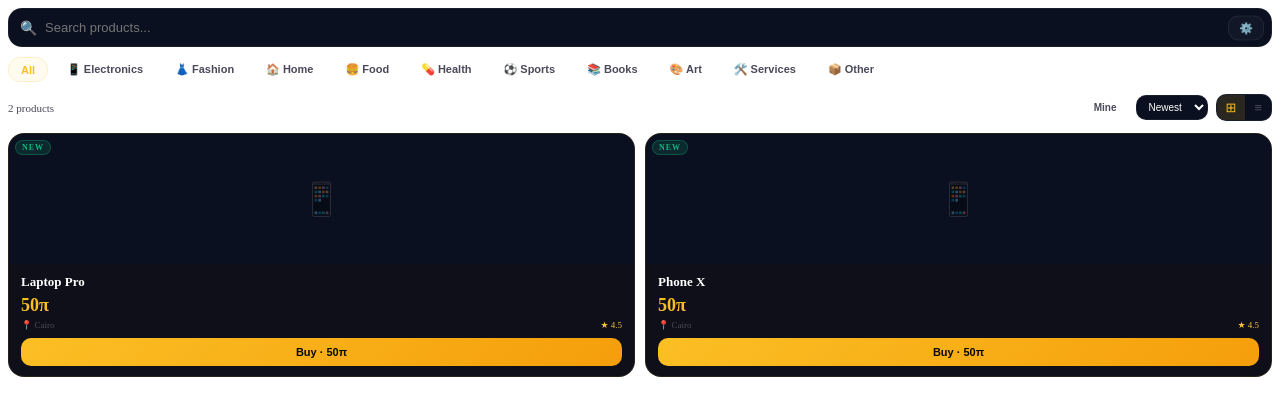
ProductsTab › بيفلتر بالـ search
In the field with placeholder "Search products...": coordinates (640, 28) [8, 8, 1272, 47], type "laptop"
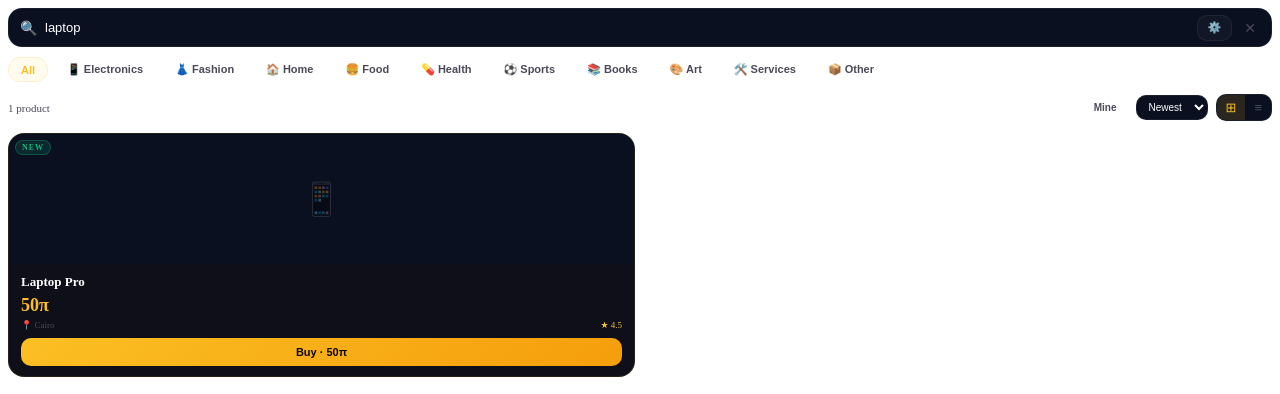
Expected: the element with test id "card-p1" is shown, [8, 133, 635, 377]
Expected: the element with test id "card-p2" is gone
